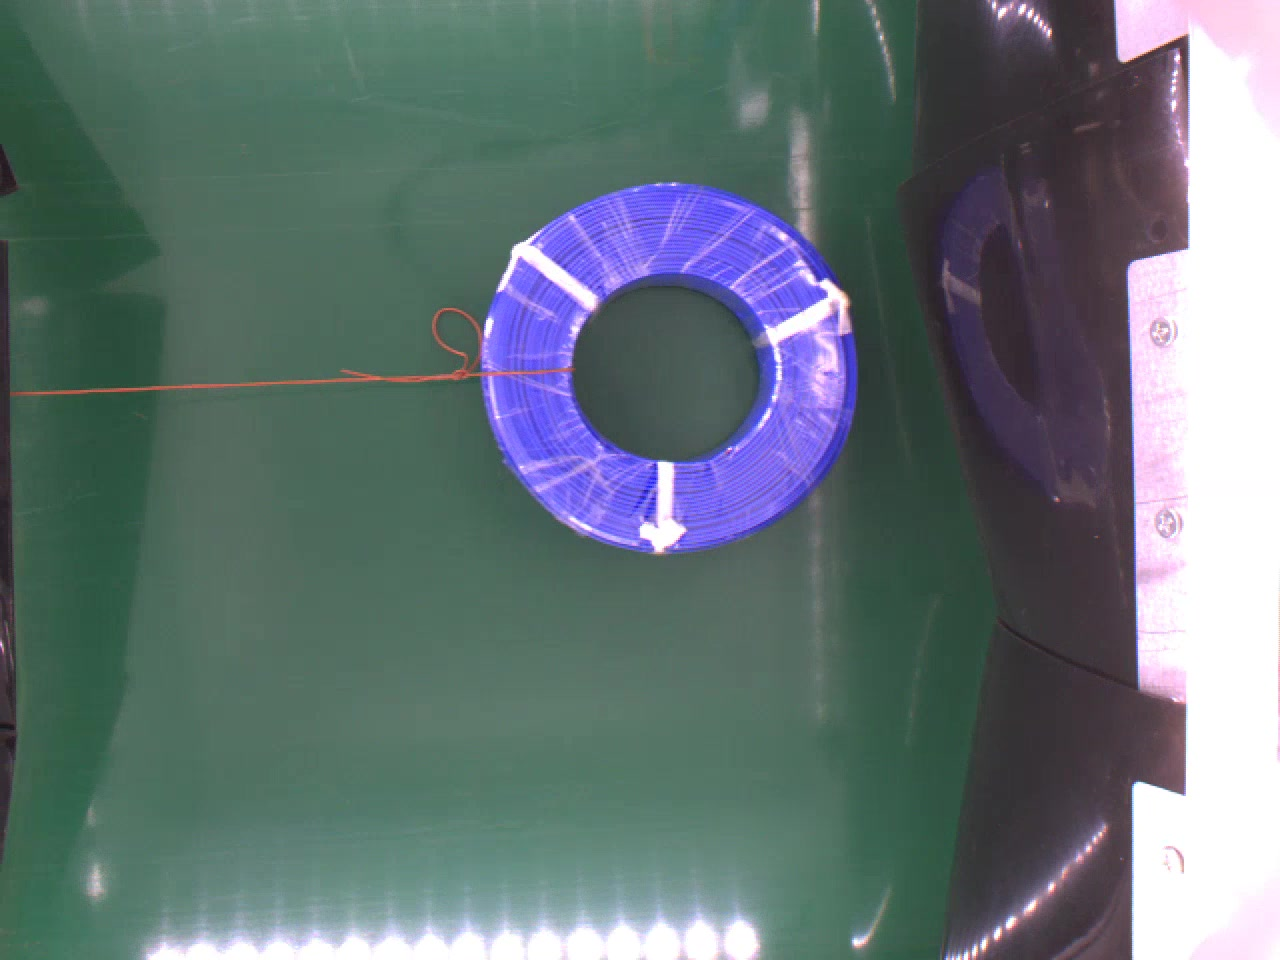blue: (481, 183, 858, 556)
